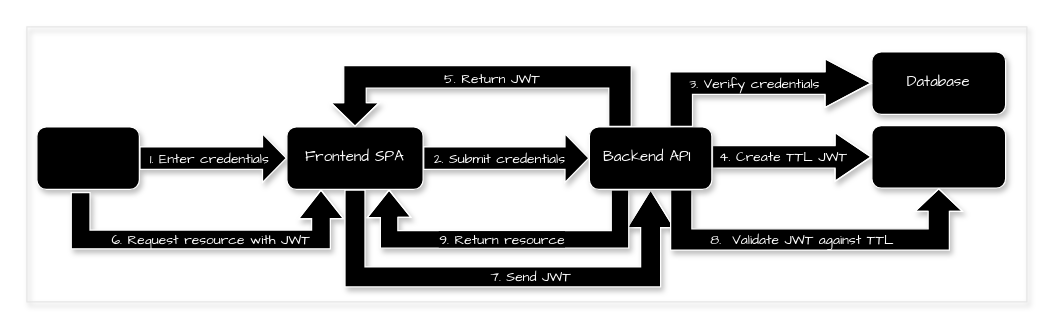
This 1056x333 diagram has some shape labels left out. The centre of each missing label's shape, as x and y in pixels:
Redis Store: (x=939, y=158)
User: (x=89, y=159)
